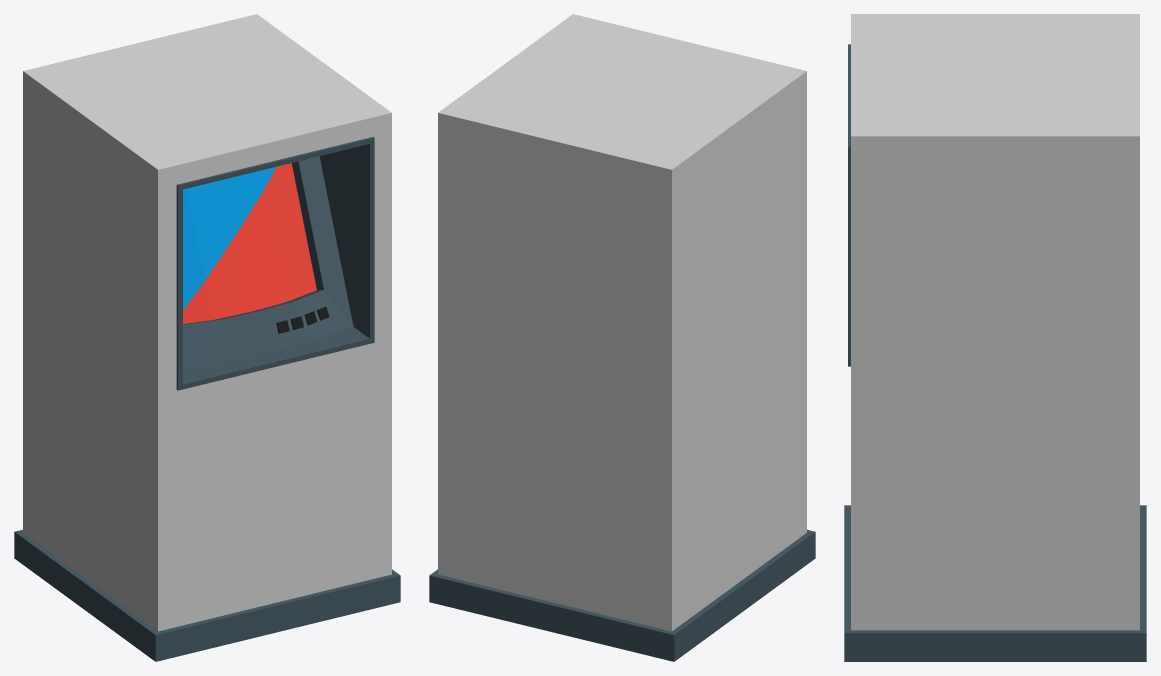
The model's file is Voting_machine_01.obj.
3 renders of one model, left to right at view 1: azimuth 30°, elevation 25°; view 2: azimuth 150°, elevation 25°; view 3: azimuth 270°, elevation 25°, orthographic. The views are drawn at different scales.
Visible parts, largest first — view 1: Voting_machine_Cube.028; view 2: Voting_machine_Cube.028; view 3: Voting_machine_Cube.028.
Boxes of the visible parts, x1=… form: Voting_machine_Cube.028: x1=14, y1=14, x2=400, y2=661; Voting_machine_Cube.028: x1=429, y1=14, x2=815, y2=661; Voting_machine_Cube.028: x1=844, y1=14, x2=1146, y2=661.
Size of the model in its own units: 5.26 by 10.04 by 5.26.
